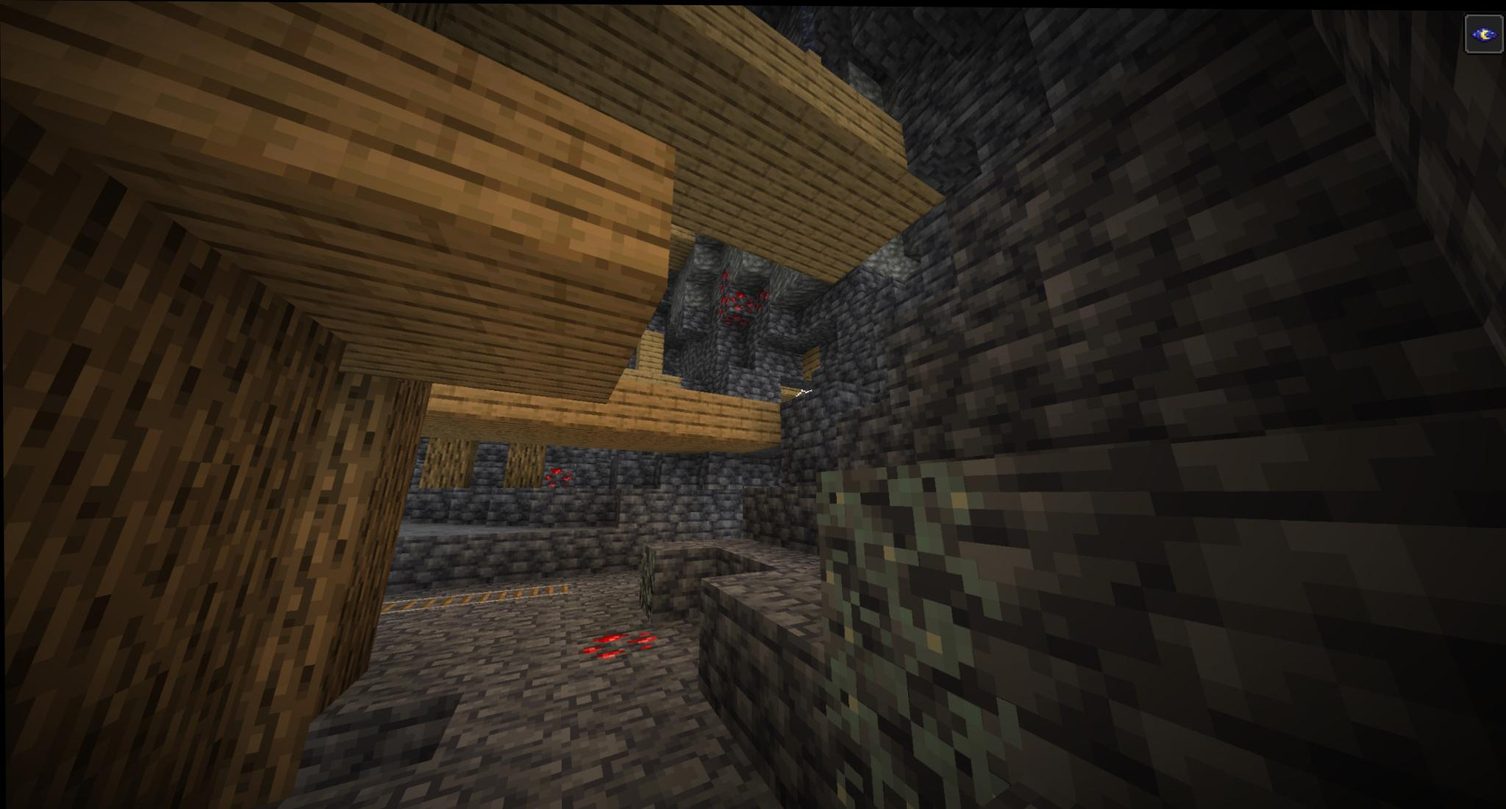redstone ore: (585, 624, 664, 670), (717, 268, 770, 322), (541, 465, 565, 485)
